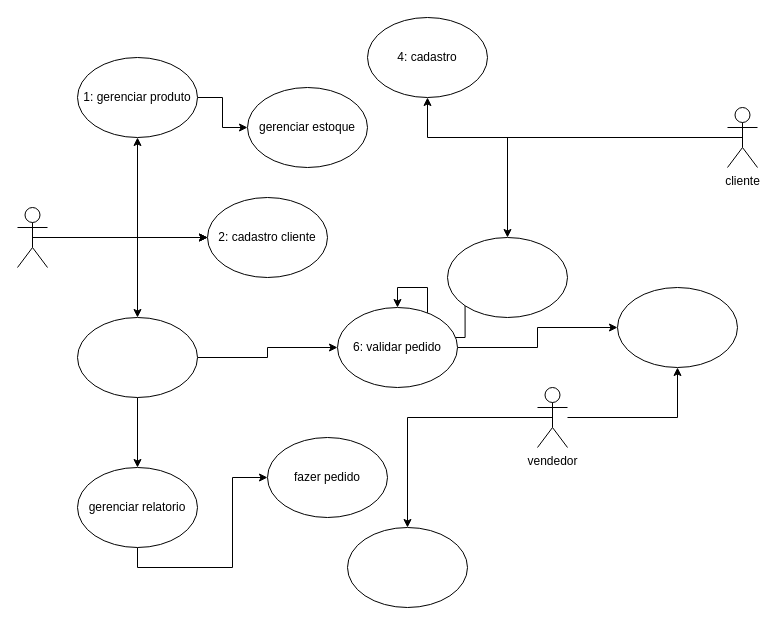
This 777x625 diagram has some shape labels left out. The centre of each missing label's shape, as x and y in pixels:
"3: gerenciar pedido" belongs at [137,357].
"5:escolher produto" belongs at [507,277].
"7: realizar pedido" belongs at [677,327].
"Adminidstrador" belongs at [32,237].
"gerenciar venda" belongs at [407,567].
